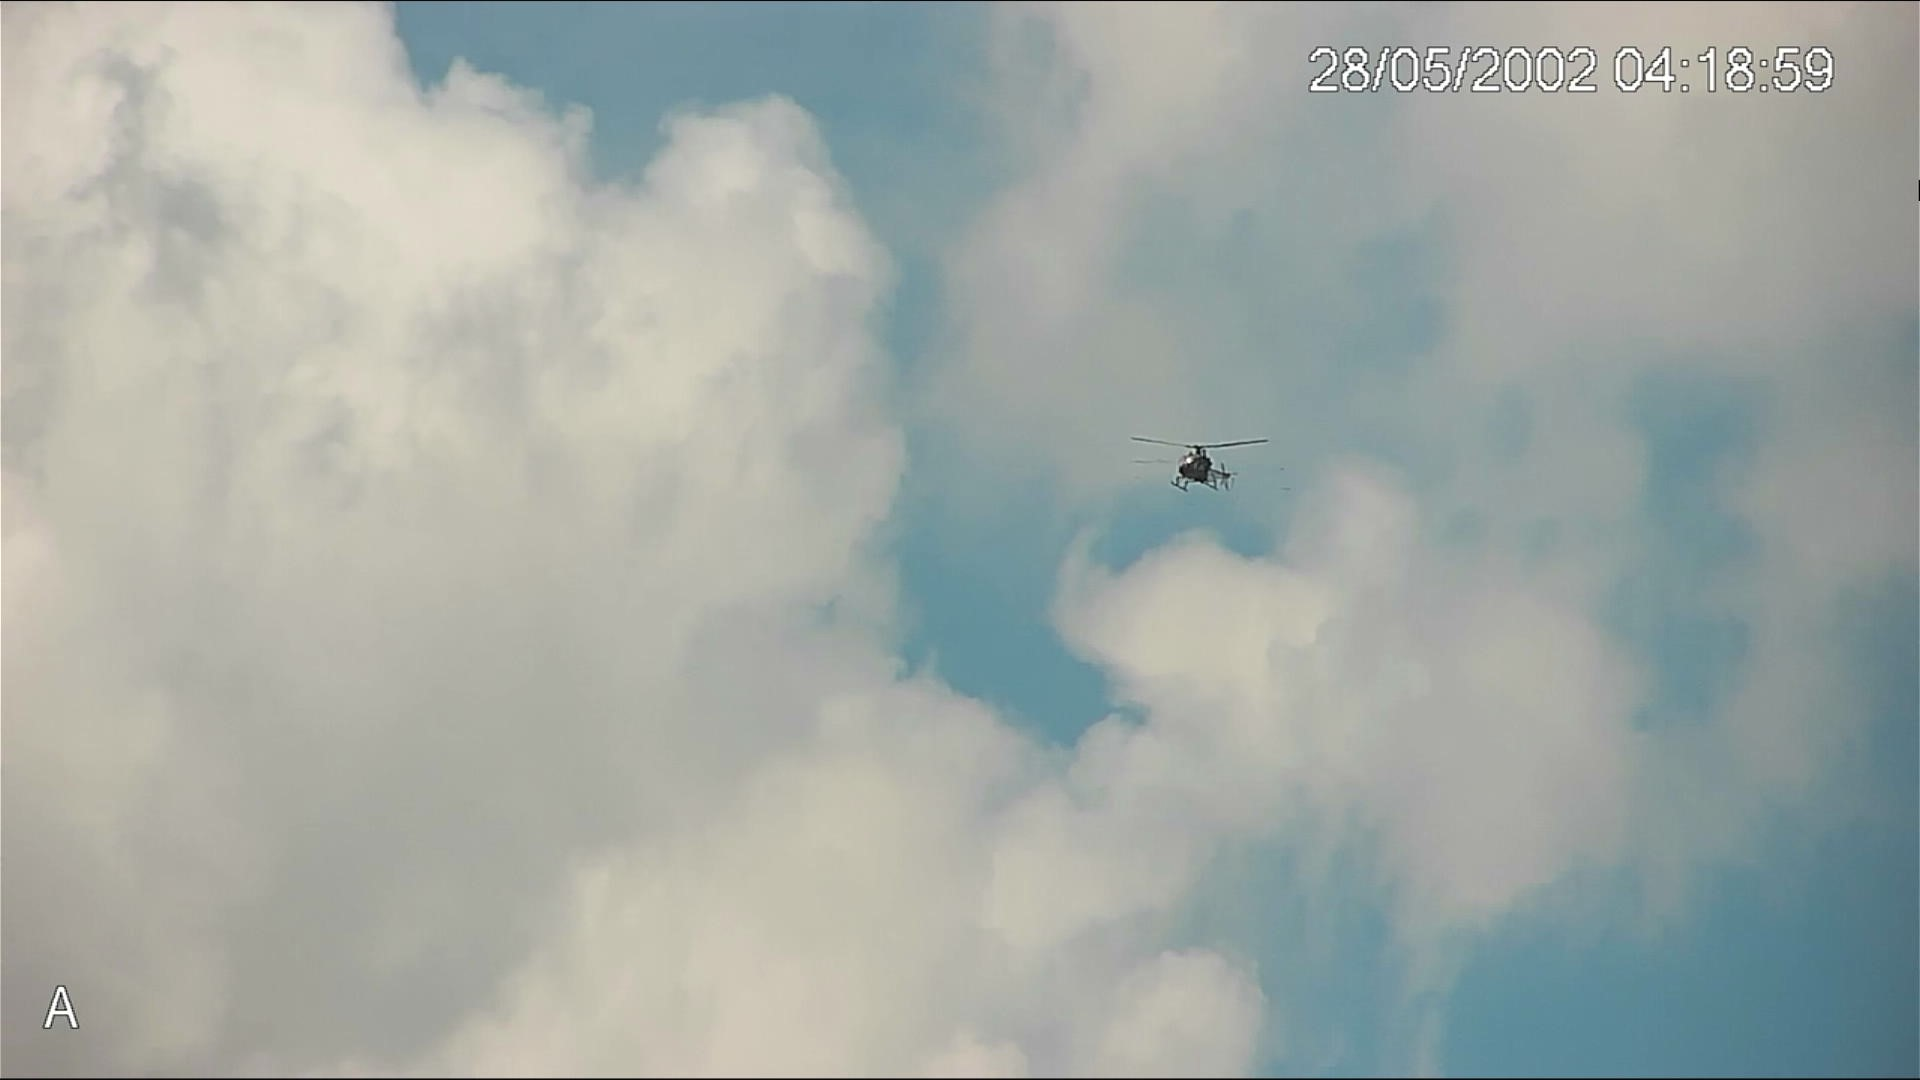SU_30: (1154, 436, 1240, 498)
